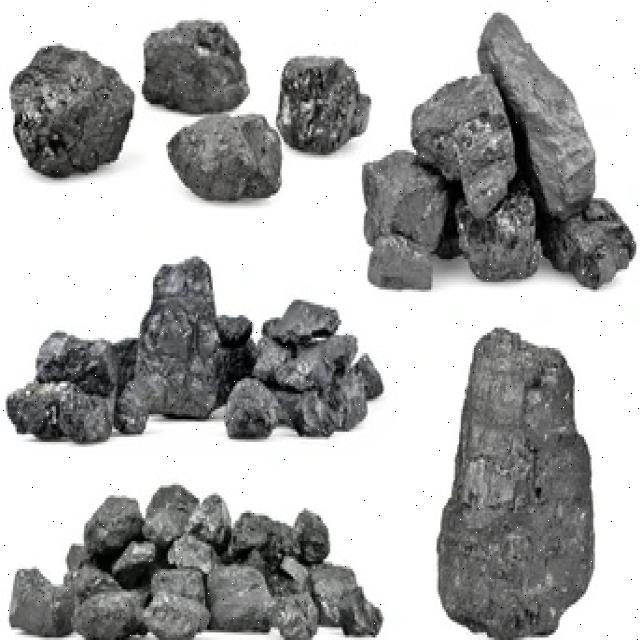Sedimentary: (364, 10, 640, 302), (9, 256, 394, 454), (7, 482, 395, 640), (433, 325, 604, 640), (2, 38, 138, 175), (162, 109, 288, 211), (136, 15, 261, 109), (272, 46, 375, 157)
